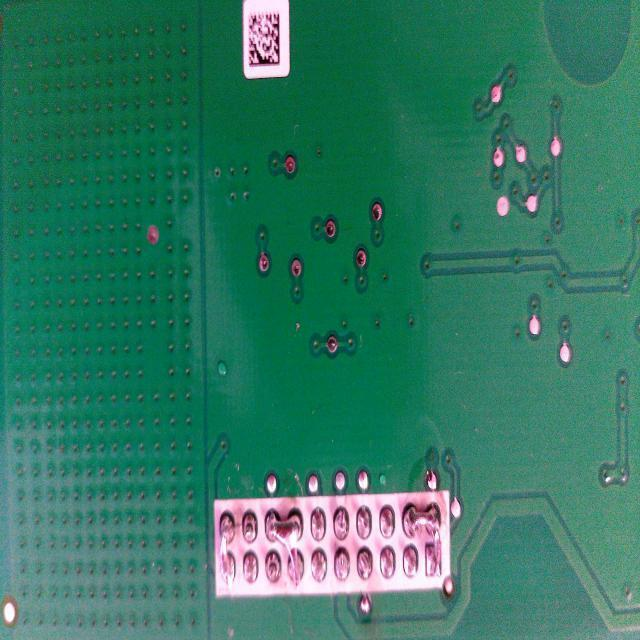Soldering shorted: (404, 488, 446, 579), (214, 508, 258, 594), (266, 512, 304, 588)
